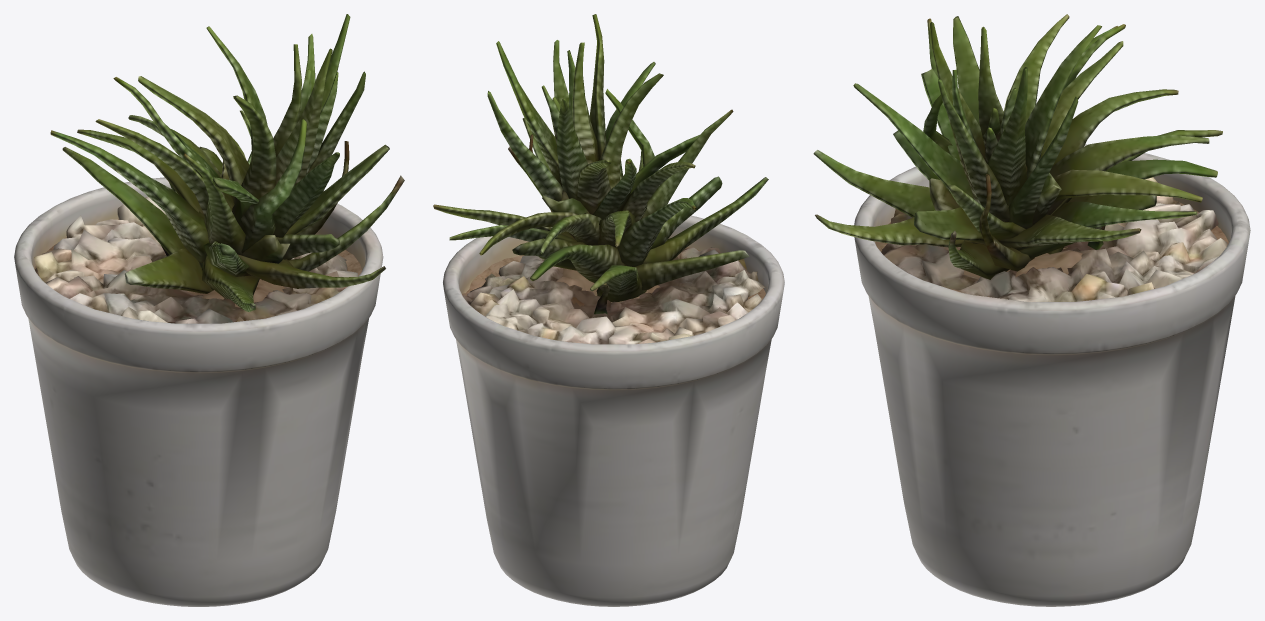
Rendered from potted_plant_04.glb.
The picture shows the model from 3 angles, left to right: view 1: azimuth 30°, elevation 25°; view 2: azimuth 150°, elevation 25°; view 3: azimuth 270°, elevation 25°; orthographic projection. The views are drawn at different scales.
Parts seen in each view (by area): view 1: potted_plant_04_pot, potted_plant_04_plant, potted_plant_04_ground, potted_plant_04_dirt; view 2: potted_plant_04_pot, potted_plant_04_plant, potted_plant_04_ground, potted_plant_04_dirt; view 3: potted_plant_04_pot, potted_plant_04_plant, potted_plant_04_ground, potted_plant_04_dirt.
Part boxes in pixels (<box>): potted_plant_04_pot: <box>14,177,383,606</box>; potted_plant_04_plant: <box>50,14,404,311</box>; potted_plant_04_ground: <box>34,197,358,323</box>; potted_plant_04_dirt: <box>34,219,362,307</box>; potted_plant_04_pot: <box>443,215,784,606</box>; potted_plant_04_plant: <box>433,14,768,314</box>; potted_plant_04_ground: <box>463,247,765,344</box>; potted_plant_04_dirt: <box>462,247,765,306</box>; potted_plant_04_pot: <box>854,144,1250,606</box>; potted_plant_04_plant: <box>813,14,1222,279</box>; potted_plant_04_ground: <box>881,177,1227,301</box>; potted_plant_04_dirt: <box>875,200,1228,297</box>.
Bounding box in the file's own units: 0.1679 × 0.2675 × 0.1848.
Materials: 1 (1 with a texture image).
